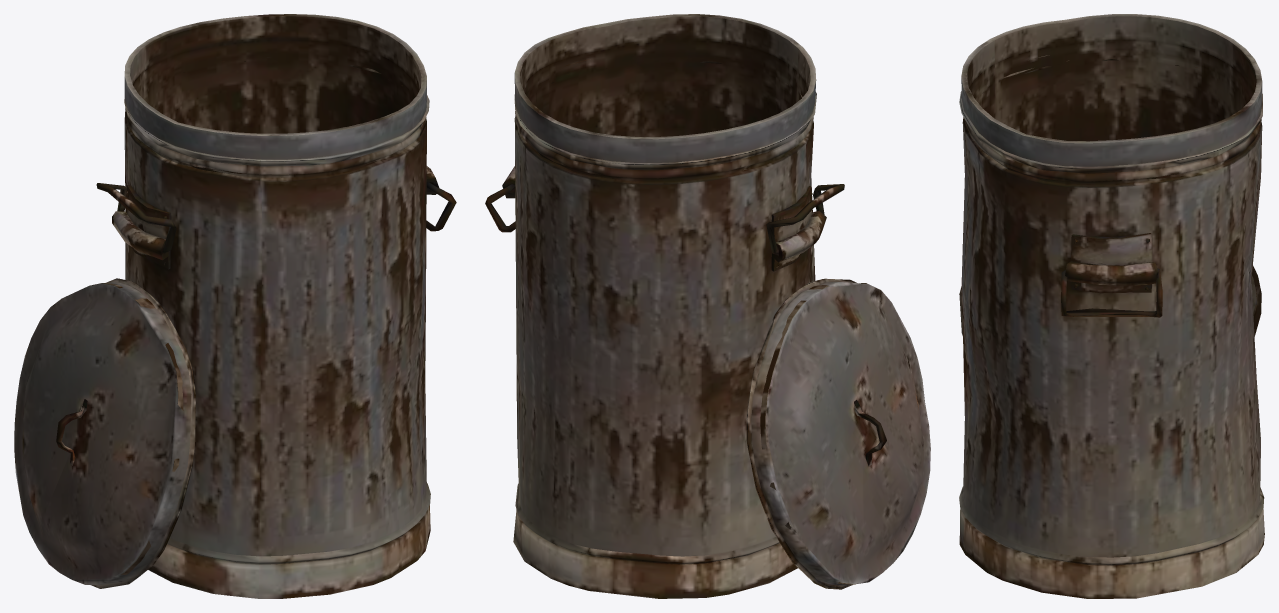
Rendered from ph_metal_trash_can.glb.
The picture shows the model from 3 angles, left to right: view 1: azimuth 30°, elevation 25°; view 2: azimuth 150°, elevation 25°; view 3: azimuth 270°, elevation 25°; orthographic projection.
Parts seen in each view (by area): view 1: metal_trash_can_rust; view 2: metal_trash_can_rust; view 3: metal_trash_can_rust.
Part boxes in pixels (x1=…): metal_trash_can_rust: x1=14, y1=14, x2=456, y2=598; metal_trash_can_rust: x1=485, y1=14, x2=930, y2=598; metal_trash_can_rust: x1=959, y1=14, x2=1264, y2=598.
Bounding box in the file's own units: 0.7716 × 0.9062 × 0.5471.
1 material, 1 textured.
